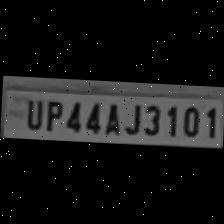0: (176, 102, 201, 138)
1: (160, 101, 180, 137), (200, 104, 219, 138)
3: (139, 100, 162, 136)
4: (61, 97, 84, 132), (82, 97, 102, 133)
A: (99, 99, 120, 136)
J: (119, 99, 141, 135)
P: (40, 96, 62, 132)
U: (19, 96, 44, 130)
